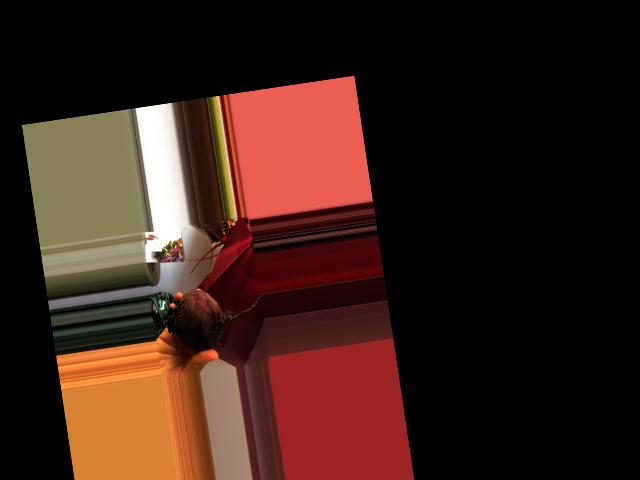beet: (149, 279, 267, 356)
